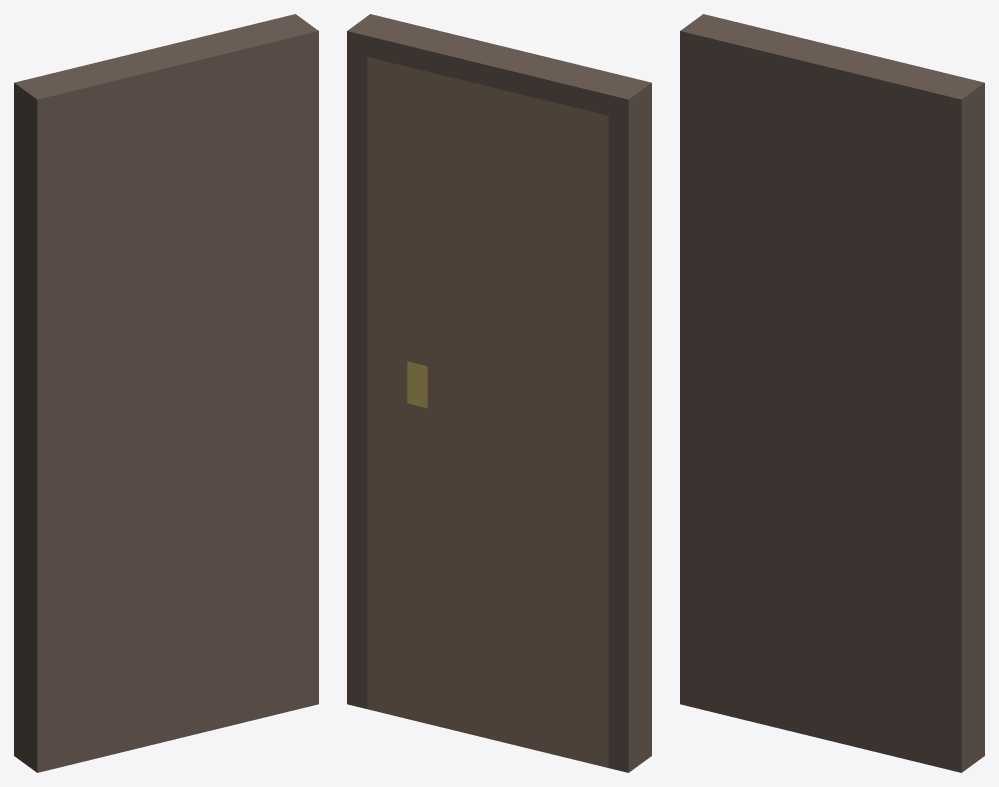
The model's file is porte.glb.
The picture shows the model from 3 angles, left to right: view 1: azimuth 30°, elevation 25°; view 2: azimuth 150°, elevation 25°; view 3: azimuth 330°, elevation 25°; orthographic projection.
Parts seen in each view (by area): view 1: main; view 2: main; view 3: main.
Boxes of the visible parts, <box> form: main: <box>14,14,318,772</box>; main: <box>347,14,651,772</box>; main: <box>680,14,984,772</box>.
Bounding box in the file's own units: 0.875 × 2 × 0.125.
